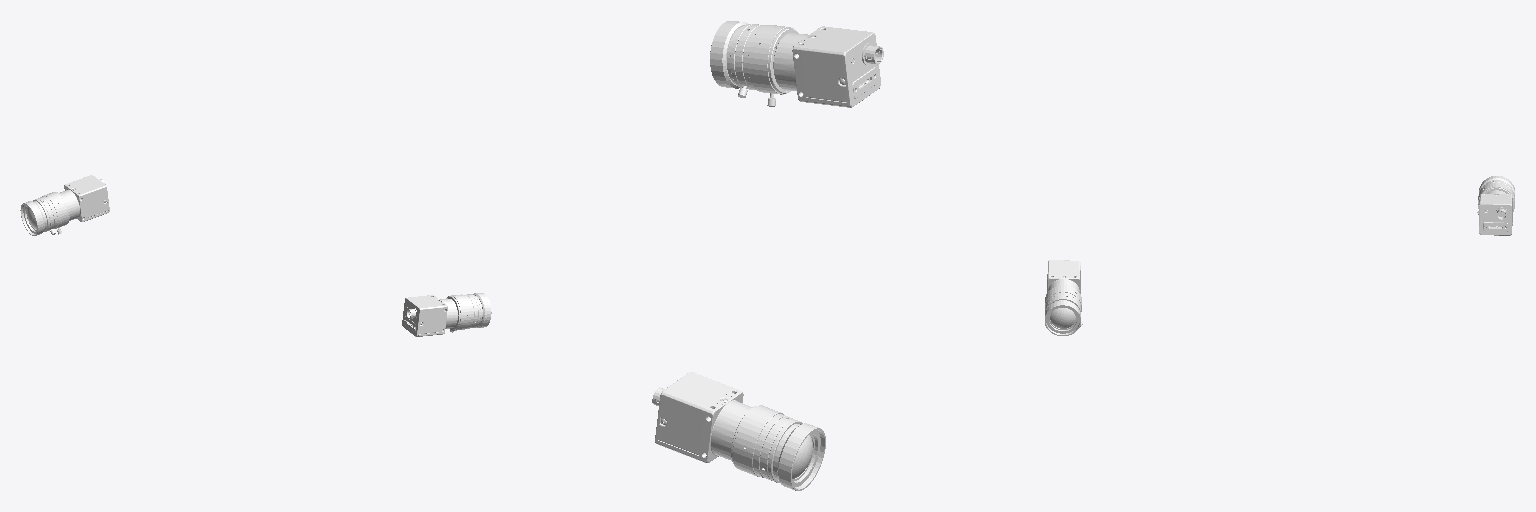
robot.urdf — sentry:
<?xml version="1.0" encoding="utf-8"?>
<!-- This URDF was automatically created by SolidWorks to URDF Exporter! Originally created by [author] ([email redacted]) 
     Commit Version: 1.6.0-1-g15f4949  Build Version: 1.6.7594.29634
     For more information, please see http://wiki.ros.org/sw_urdf_exporter -->
<robot
  name="sentry">
  <link
    name="link1">
    <inertial>
      <origin
        xyz="0.043685 0.21224 0.28629"
        rpy="0 0 0" />
      <mass
        value="6.1488" />
      <inertia
        ixx="0.011029"
        ixy="-3.576E-07"
        ixz="2.2785E-05"
        iyy="0.013825"
        iyz="8.5723E-08"
        izz="0.010184" />
    </inertial>
    <visual>
      <origin
        xyz="0 0 0"
        rpy="0 0 0" />
      <geometry>
        <mesh
          filename="package://sentry/meshes/link1.STL" />
      </geometry>
      <material
        name="">
        <color
          rgba="0.75294 0.75294 0.75294 1" />
      </material>
    </visual>
    <collision>
      <origin
        xyz="0 0 0"
        rpy="0 0 0" />
      <geometry>
        <mesh
          filename="package://sentry/meshes/link1.STL" />
      </geometry>
    </collision>
  </link>
  <link
    name="Link2">
    <inertial>
      <origin
        xyz="0.041831 0.13709 0.27298"
        rpy="0 0 0" />
      <mass
        value="5.4326" />
      <inertia
        ixx="0.0066611"
        ixy="8.7021E-08"
        ixz="0.00011214"
        iyy="0.0090042"
        iyz="1.8428E-05"
        izz="0.0084782" />
    </inertial>
    <visual>
      <origin
        xyz="0 0 0"
        rpy="0 0 0" />
      <geometry>
        <mesh
          filename="package://sentry/meshes/Link2.STL" />
      </geometry>
      <material
        name="">
        <color
          rgba="0.75294 0.75294 0.75294 1" />
      </material>
    </visual>
    <collision>
      <origin
        xyz="0 0 0"
        rpy="0 0 0" />
      <geometry>
        <mesh
          filename="package://sentry/meshes/Link2.STL" />
      </geometry>
    </collision>
  </link>
  <joint
    name="joint2"
    type="fixed">
    <origin
      xyz="-0.19538 -0.32561 0.33461"
      rpy="1.5708 0 1.5708" />
    <parent
      link="link1" />
    <child
      link="Link2" />
    <axis
      xyz="0 0 0" />
    <limit
      lower="-3.14"
      upper="3.14"
      effort="100"
      velocity="1" />
  </joint>
  <link
    name="yaw1">
    <inertial>
      <origin
        xyz="0.12232 0.0034482 0.0044851"
        rpy="0 0 0" />
      <mass
        value="1.3365" />
      <inertia
        ixx="0.0011694"
        ixy="-6.3094E-05"
        ixz="-4.567E-05"
        iyy="0.00092918"
        iyz="-0.00028586"
        izz="0.0011202" />
    </inertial>
    <visual>
      <origin
        xyz="0 0 0"
        rpy="0 0 0" />
      <geometry>
        <mesh
          filename="package://sentry/meshes/yaw1.STL" />
      </geometry>
      <material
        name="">
        <color
          rgba="0.75294 0.75294 0.75294 1" />
      </material>
    </visual>
    <collision>
      <origin
        xyz="0 0 0"
        rpy="0 0 0" />
      <geometry>
        <mesh
          filename="package://sentry/meshes/yaw1.STL" />
      </geometry>
    </collision>
  </link>
  <joint
    name="yaw1"
    type="fixed">
    <origin
      xyz="-0.10047 0.091381 0.24908"
      rpy="-2.2049 -0.0043799 1.5438" />
    <parent
      link="Link2" />
    <child
      link="yaw1" />
    <axis
      xyz="0 0 0" />
    <limit
      lower="-3.14"
      upper="3.14"
      effort="100"
      velocity="1" />
  </joint>
  <link
    name="odom1">
    <inertial>
      <origin
        xyz="0.26312 0.18793 -0.05626"
        rpy="0 0 0" />
      <mass
        value="11.581" />
      <inertia
        ixx="0.39871"
        ixy="4.9241E-05"
        ixz="0.0061107"
        iyy="0.53821"
        iyz="0.0043212"
        izz="0.53782" />
    </inertial>
    <visual>
      <origin
        xyz="0 0 0"
        rpy="0 0 0" />
      <geometry>
        <mesh
          filename="package://sentry/meshes/odom1.STL" />
      </geometry>
      <material
        name="">
        <color
          rgba="1 1 1 1" />
      </material>
    </visual>
    <collision>
      <origin
        xyz="0 0 0"
        rpy="0 0 0" />
      <geometry>
        <mesh
          filename="package://sentry/meshes/odom1.STL" />
      </geometry>
    </collision>
  </link>
  <joint
    name="odom1"
    type="fixed">
    <origin
      xyz="0.16103 -0.10425 -0.011112"
      rpy="-2.1867 -0.047995 3.0272" />
    <parent
      link="yaw1" />
    <child
      link="odom1" />
    <axis
      xyz="0 0 0" />
  </joint>
  <link
    name="pitch1">
    <inertial>
      <origin
        xyz="-2.0162 -0.030755 -2.8256"
        rpy="0 0 0" />
      <mass
        value="0.8422" />
      <inertia
        ixx="0.00049763"
        ixy="1.9382E-06"
        ixz="-0.00026259"
        iyy="0.00091143"
        iyz="9.4937E-07"
        izz="0.00074947" />
    </inertial>
    <visual>
      <origin
        xyz="0 0 0"
        rpy="0 0 0" />
      <geometry>
        <mesh
          filename="package://sentry/meshes/pitch1.STL" />
      </geometry>
      <material
        name="">
        <color
          rgba="0.75294 0.75294 0.75294 1" />
      </material>
    </visual>
    <collision>
      <origin
        xyz="0 0 0"
        rpy="0 0 0" />
      <geometry>
        <mesh
          filename="package://sentry/meshes/pitch1.STL" />
      </geometry>
    </collision>
  </link>
  <joint
    name="pitch1"
    type="fixed">
    <origin
      xyz="-0.71171 2.7639 1.9061"
      rpy="-1.1631 -0.47757 0.7697" />
    <parent
      link="yaw1" />
    <child
      link="pitch1" />
    <axis
      xyz="0 0 0" />
    <limit
      lower="-3.14"
      upper="3.14"
      effort="100"
      velocity="1" />
  </joint>
  <link
    name="camera_Link1">
    <inertial>
      <origin
        xyz="5.4708E-06 1.5331E-05 -0.010516"
        rpy="0 0 0" />
      <mass
        value="0.045351" />
      <inertia
        ixx="6.6808E-06"
        ixy="-4.5883E-09"
        ixz="-3.406E-08"
        iyy="6.6928E-06"
        iyz="-1.5829E-08"
        izz="6.4362E-06" />
    </inertial>
    <visual>
      <origin
        xyz="0 0 0"
        rpy="0 0 0" />
      <geometry>
        <mesh
          filename="package://sentry/meshes/camera_Link1.STL" />
      </geometry>
      <material
        name="">
        <color
          rgba="1 1 1 1" />
      </material>
    </visual>
    <collision>
      <origin
        xyz="0 0 0"
        rpy="0 0 0" />
      <geometry>
        <mesh
          filename="package://sentry/meshes/camera_Link1.STL" />
      </geometry>
    </collision>
  </link>
  <joint
    name="camera_Link1"
    type="fixed">
    <origin
      xyz="-2.0973 -0.0721 -2.874"
      rpy="-3.1416 -0.99998 3.1416" />
    <parent
      link="pitch1" />
    <child
      link="camera_Link1" />
    <axis
      xyz="0 0 0" />
  </joint>
  <link
    name="yaw2">
    <inertial>
      <origin
        xyz="0.12232 0.0034482 0.0044851"
        rpy="0 0 0" />
      <mass
        value="1.3365" />
      <inertia
        ixx="0.0011694"
        ixy="-6.3094E-05"
        ixz="-4.567E-05"
        iyy="0.00092918"
        iyz="-0.00028586"
        izz="0.0011202" />
    </inertial>
    <visual>
      <origin
        xyz="0 0 0"
        rpy="0 0 0" />
      <geometry>
        <mesh
          filename="package://sentry/meshes/yaw2.STL" />
      </geometry>
      <material
        name="">
        <color
          rgba="0.75294 0.75294 0.75294 1" />
      </material>
    </visual>
    <collision>
      <origin
        xyz="0 0 0"
        rpy="0 0 0" />
      <geometry>
        <mesh
          filename="package://sentry/meshes/yaw2.STL" />
      </geometry>
    </collision>
  </link>
  <joint
    name="yaw2"
    type="fixed">
    <origin
      xyz="0.18405 0.091381 0.23329"
      rpy="0.93671 0.0043799 1.5978" />
    <parent
      link="Link2" />
    <child
      link="yaw2" />
    <axis
      xyz="0 0 0" />
    <limit
      lower="-3.14"
      upper="3.14"
      effort="100"
      velocity="1" />
  </joint>
  <link
    name="odom2">
    <inertial>
      <origin
        xyz="0.266558962355486 0.190031730972721 -0.0836577848704202"
        rpy="0 0 0" />
      <mass
        value="11.5813882735496" />
      <inertia
        ixx="0.410154352354418"
        ixy="-0.00111679531394403"
        ixz="-0.0387102446428849"
        iyy="0.538206840891066"
        iyz="0.00417469534676449"
        izz="0.52637986419801" />
    </inertial>
    <visual>
      <origin
        xyz="0 0 0"
        rpy="0 0 0" />
      <geometry>
        <mesh
          filename="package://sentry/meshes/odom2.STL" />
      </geometry>
      <material
        name="">
        <color
          rgba="1 1 1 1" />
      </material>
    </visual>
    <collision>
      <origin
        xyz="0 0 0"
        rpy="0 0 0" />
      <geometry>
        <mesh
          filename="package://sentry/meshes/odom2.STL" />
      </geometry>
    </collision>
  </link>
  <joint
    name="odom2"
    type="fixed">
    <origin
      xyz="0.16103 -0.10425 -0.011112"
      rpy="-2.1867 -0.047995 3.0272" />
    <parent
      link="yaw2" />
    <child
      link="odom2" />
    <axis
      xyz="0 0 0" />
  </joint>
  <link
    name="pitch2">
    <inertial>
      <origin
        xyz="-2.0162287874281 -0.0307546380856864 -2.82556504712081"
        rpy="0 0 0" />
      <mass
        value="0.842202155615208" />
      <inertia
        ixx="0.000497631251901916"
        ixy="1.93818329549478E-06"
        ixz="-0.000262589778680024"
        iyy="0.000911426448881413"
        iyz="9.49364971579363E-07"
        izz="0.000749472221505134" />
    </inertial>
    <visual>
      <origin
        xyz="0 0 0"
        rpy="0 0 0" />
      <geometry>
        <mesh
          filename="package://sentry/meshes/pitch2.STL" />
      </geometry>
      <material
        name="">
        <color
          rgba="0.752941176470588 0.752941176470588 0.752941176470588 1" />
      </material>
    </visual>
    <collision>
      <origin
        xyz="0 0 0"
        rpy="0 0 0" />
      <geometry>
        <mesh
          filename="package://sentry/meshes/pitch2.STL" />
      </geometry>
    </collision>
  </link>
  <joint
    name="pitch2"
    type="fixed">
    <origin
      xyz="-0.71171 2.7639 1.9061"
      rpy="-1.1631 -0.47757 0.7697" />
    <parent
      link="yaw2" />
    <child
      link="pitch2" />
    <axis
      xyz="0 0 0" />
    <limit
      lower="-3.14"
      upper="3.14"
      effort="100"
      velocity="1" />
  </joint>
  <link
    name="camera_Link2">
    <inertial>
      <origin
        xyz="0.022944819601072 0.377944450219856 -0.19307413681607"
        rpy="0 0 0" />
      <mass
        value="0.0453511869913382" />
      <inertia
        ixx="6.64949155022257E-06"
        ixy="8.36192972549549E-09"
        ixz="8.85230497000332E-08"
        iyy="6.69284098332352E-06"
        iyz="-1.42017726175562E-08"
        izz="6.46749878020466E-06" />
    </inertial>
    <visual>
      <origin
        xyz="0 0 0"
        rpy="0 0 0" />
      <geometry>
        <mesh
          filename="package://sentry/meshes/camera_Link2.STL" />
      </geometry>
      <material
        name="">
        <color
          rgba="1 1 1 1" />
      </material>
    </visual>
    <collision>
      <origin
        xyz="0 0 0"
        rpy="0 0 0" />
      <geometry>
        <mesh
          filename="package://sentry/meshes/camera_Link2.STL" />
      </geometry>
    </collision>
  </link>
  <joint
    name="camera_Link2"
    type="fixed">
    <origin
      xyz="-1.94 0.30586 -2.7427"
      rpy="0 -0.74998 -3.1416" />
    <parent
      link="pitch2" />
    <child
      link="camera_Link2" />
    <axis
      xyz="0 0 0" />
  </joint>
</robot>

--- What the picture shows (computed from the rendered views, not written in the file) ---
The picture shows the robot from 3 angles, left to right: view 1: azimuth 30°, elevation 25°; view 2: azimuth 150°, elevation 25°; view 3: azimuth 270°, elevation 25°; orthographic projection.
Robot: sentry — 10 links, 9 joints (9 fixed); root link link1; default pose: every joint at zero.
Visible links, largest first — view 1: camera_Link2, camera_Link1; view 2: camera_Link2, camera_Link1; view 3: camera_Link1, camera_Link2.
Link boxes in pixels (x1,y1,x2,y2): camera_Link2: (20, 175, 109, 235); camera_Link1: (402, 293, 491, 336); camera_Link2: (652, 372, 825, 490); camera_Link1: (710, 21, 883, 107); camera_Link1: (1045, 260, 1082, 335); camera_Link2: (1477, 176, 1514, 235).
Size in the robot's own frame: 0.2702 by 0.4151 by 0.0428 metres.
Meshes: 10 distinct files referenced, 2 mesh visuals loaded (2 binary STL); not drawn: 1 (reference not matched to a file when rendering), 7 (file found but could not be loaded).